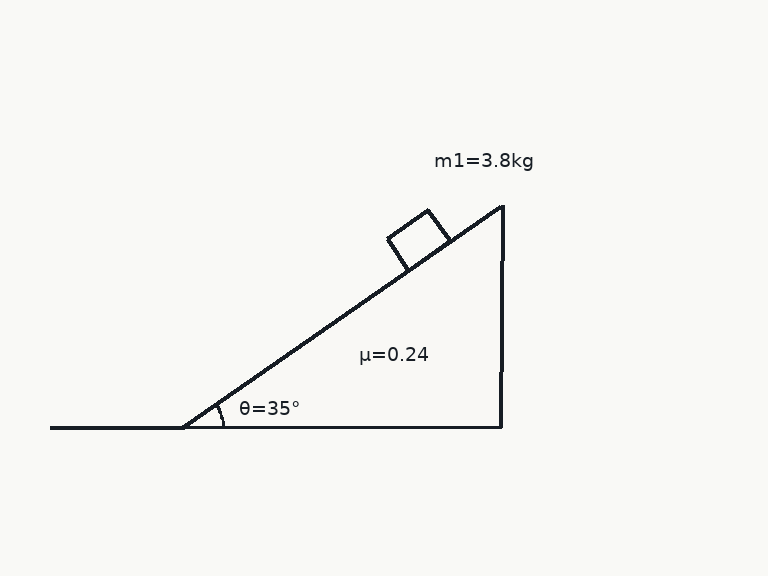block: (384, 208, 452, 272)
ramp: (181, 203, 502, 429)
